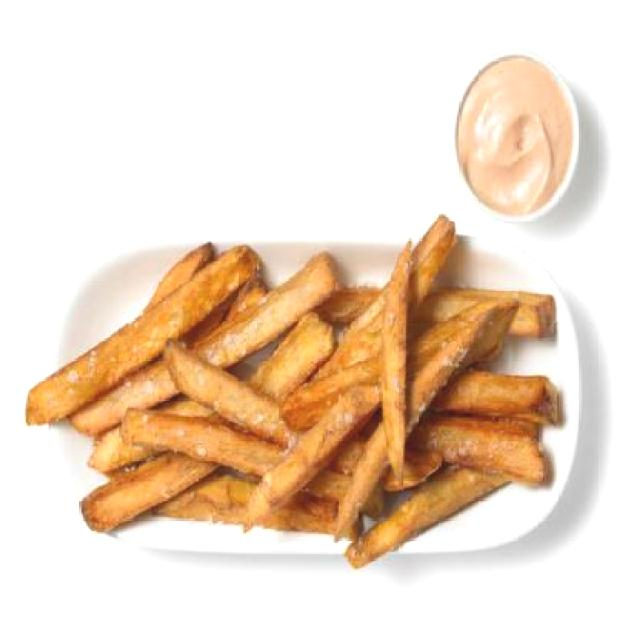fries: (22, 206, 568, 574)
